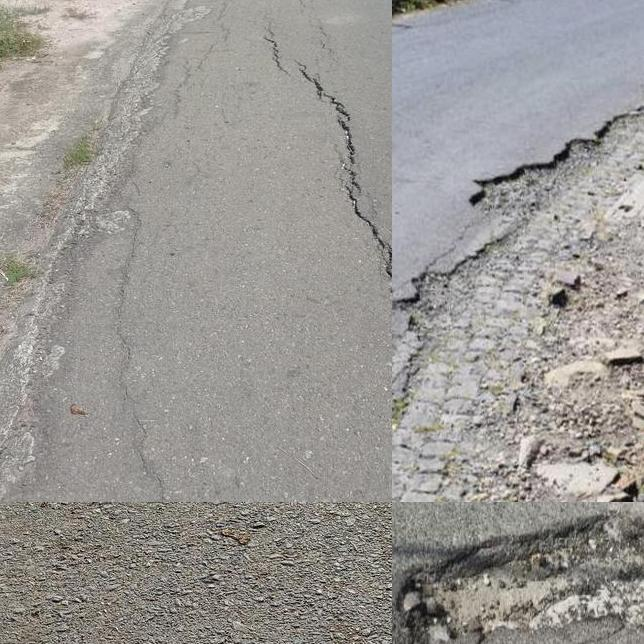Lubang: (394, 507, 644, 643)
Memanjang: (255, 33, 392, 420)
Pinggir: (392, 86, 644, 502)
